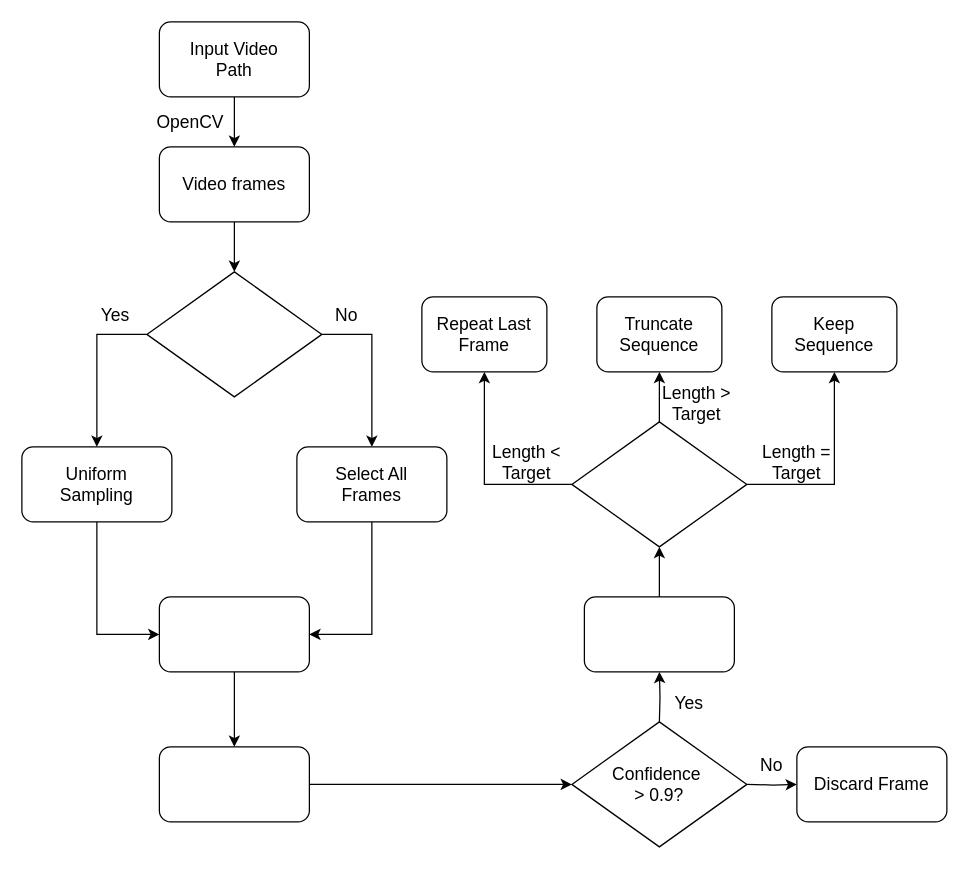
Image size: 969x869. Some labels were removed from this diagram. The centre of each missing label's shape, as x and y in pixels:
"Crop & Resize Face" goes at [658,634].
"Detect Faces" goes at [233,784].
"Iterate Frames" goes at [233,634].
"Sequence Lenght?" goes at [659,484].
"Total Frames > Target?" goes at [234,334].
